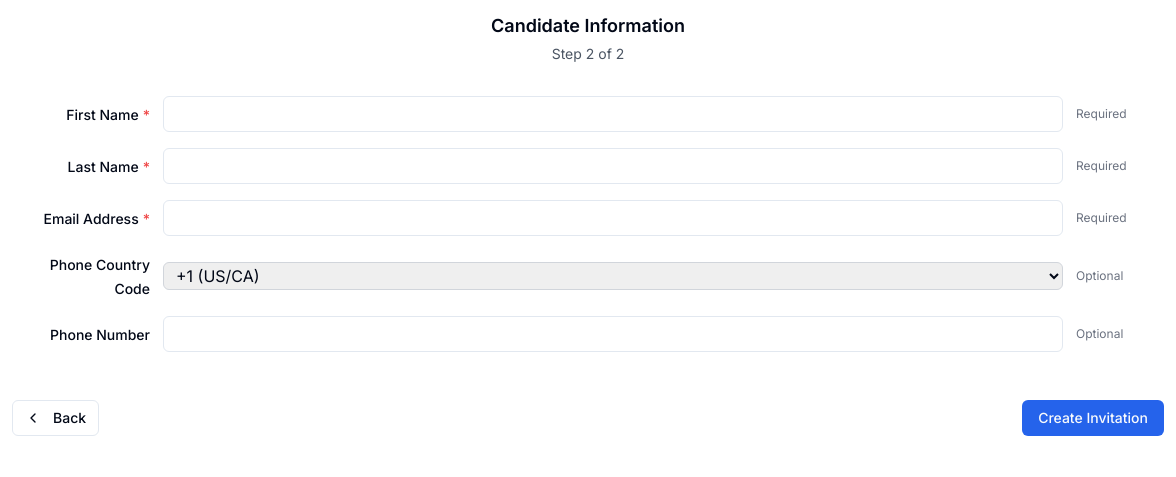
Scenario: CandidateInfoStep › validation › should validate email format on blur
Note: Type invalid email and blur
Type "invalid-email" into the field with test id "email".
click(613, 218); type("invalid-email")  # box [163,200,1063,236]
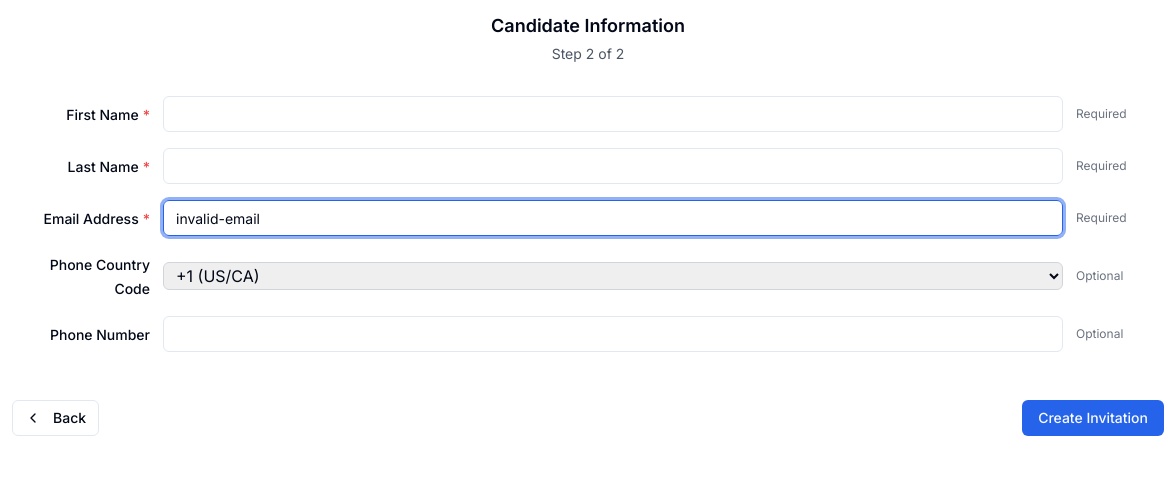
Leave the field with test id "email", box [163,200,1063,236]
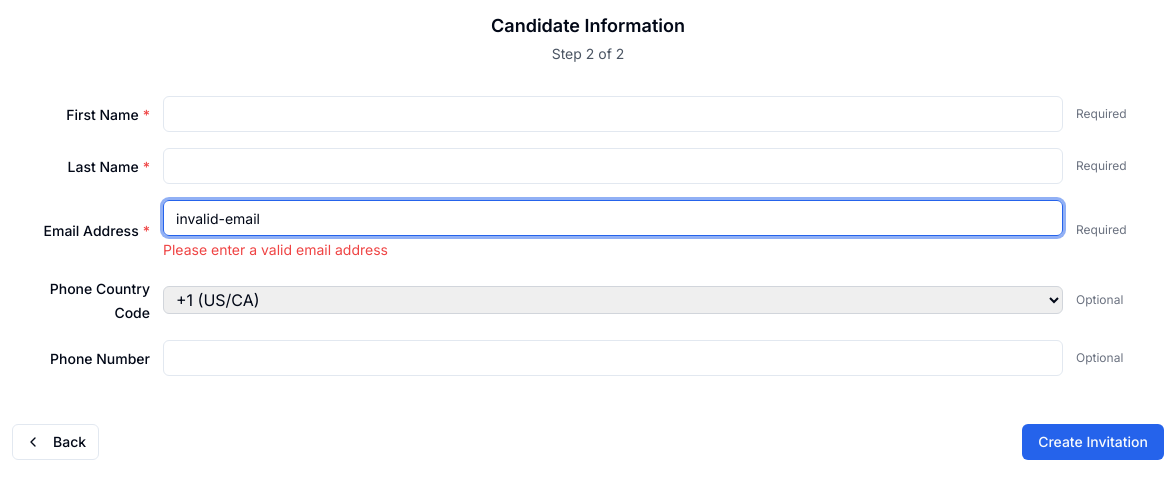
Expected: the text "Please enter a valid email address" is shown, [163,241,388,258]
